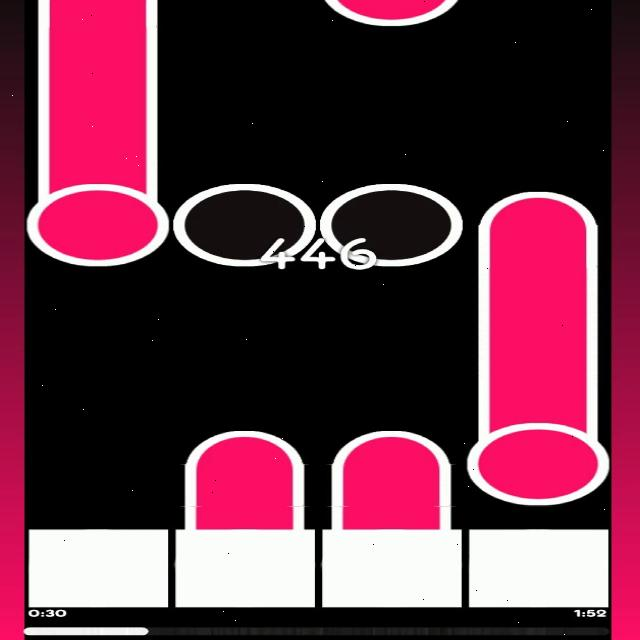end_hold: (183, 426, 303, 476), (329, 425, 447, 475), (479, 186, 597, 231)
note: (172, 184, 319, 266), (320, 184, 463, 268)
start_hold: (466, 406, 610, 506), (28, 170, 168, 268), (326, 0, 466, 28)
